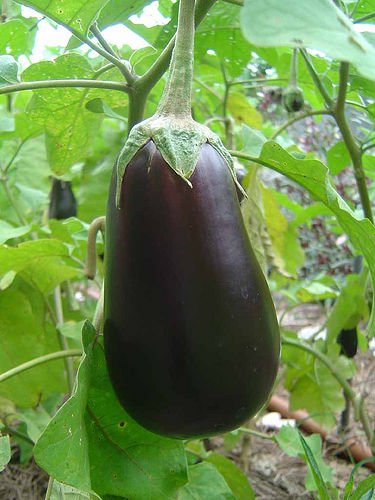eggplant: (100, 54, 284, 443)
